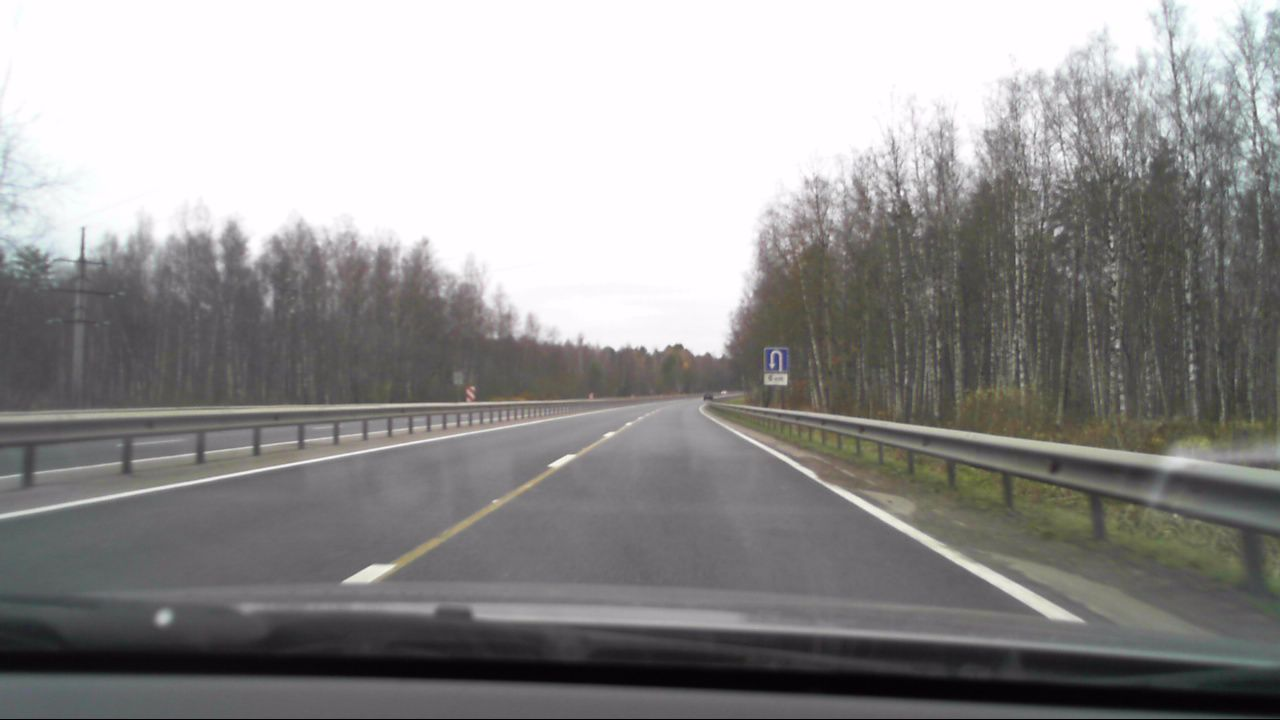U-turn: (764, 347, 788, 373)
